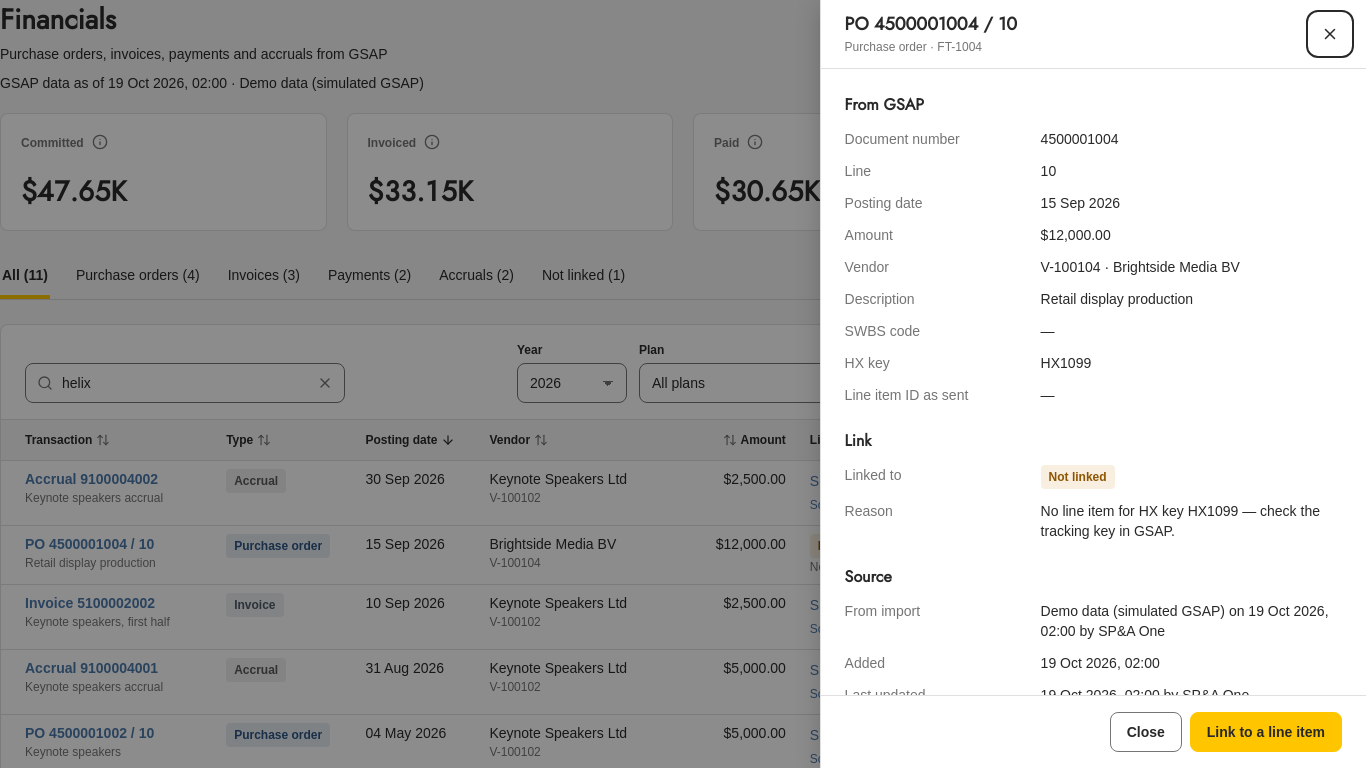
Test: TransactionPanel (015 US3 scenarios 3–4, FR-022) › shows a not-linked transaction with its reason and Link to a line item (US3 scenario 4)
Expected: the element showing "Not linked" is shown, 1041,465 -> 1115,489
Click the button "Link to a line item". click: (1266, 732)
box: 1190,712 -> 1342,752
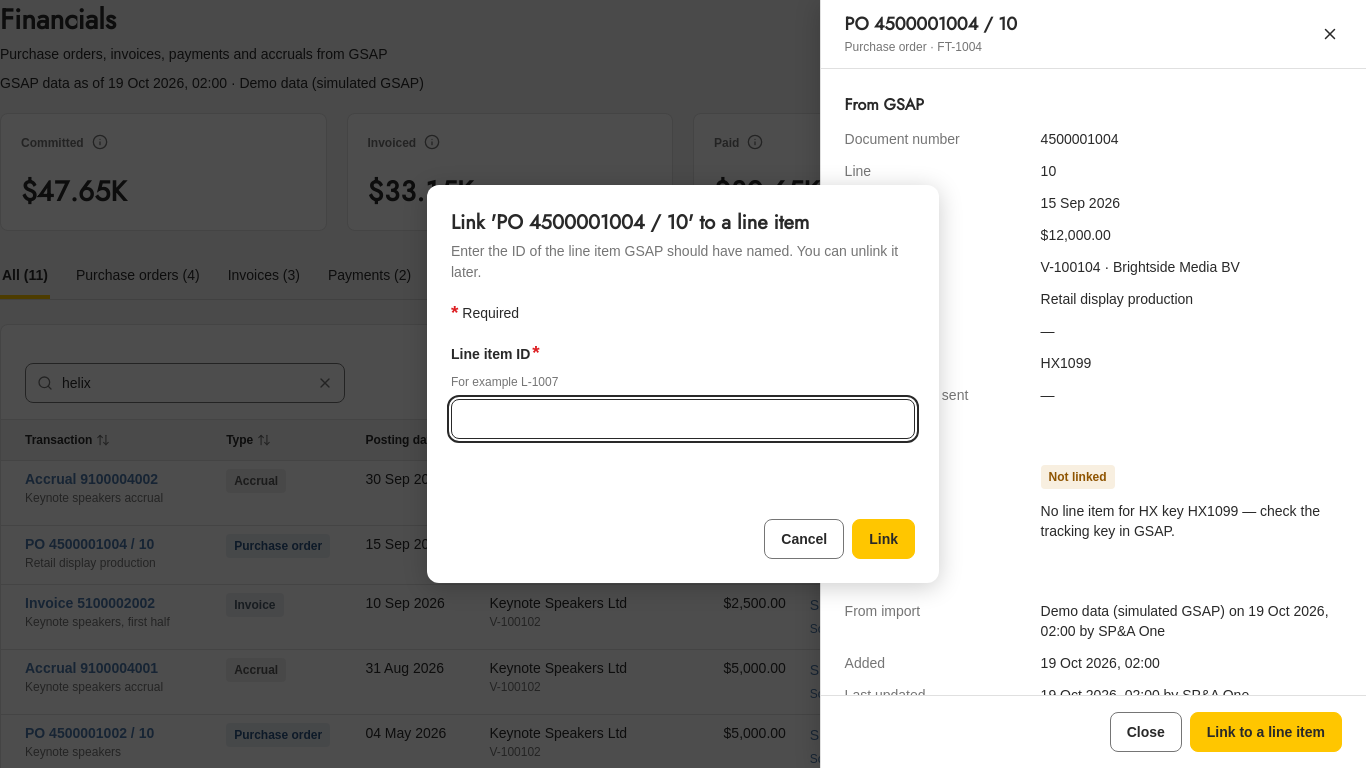
Expected: the dialog "Link 'PO 4500001004 / 10' to a line item" is shown, 427,185 -> 939,583
